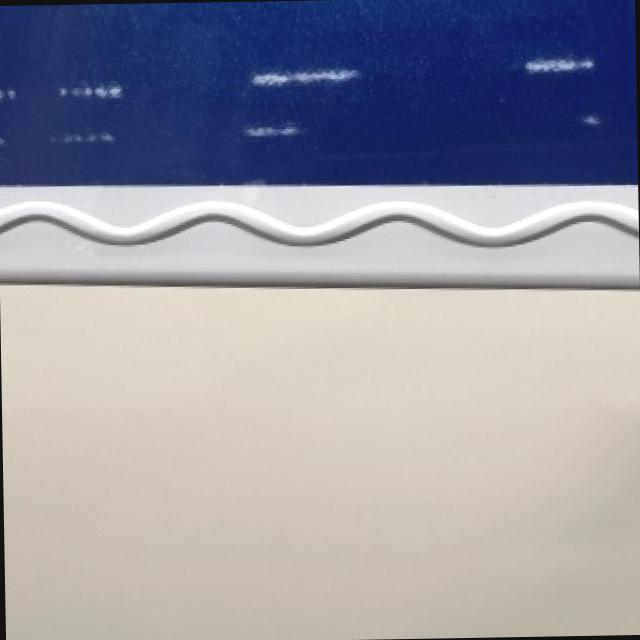healthy: (0, 0, 640, 640), (0, 0, 638, 183), (0, 182, 639, 282)
